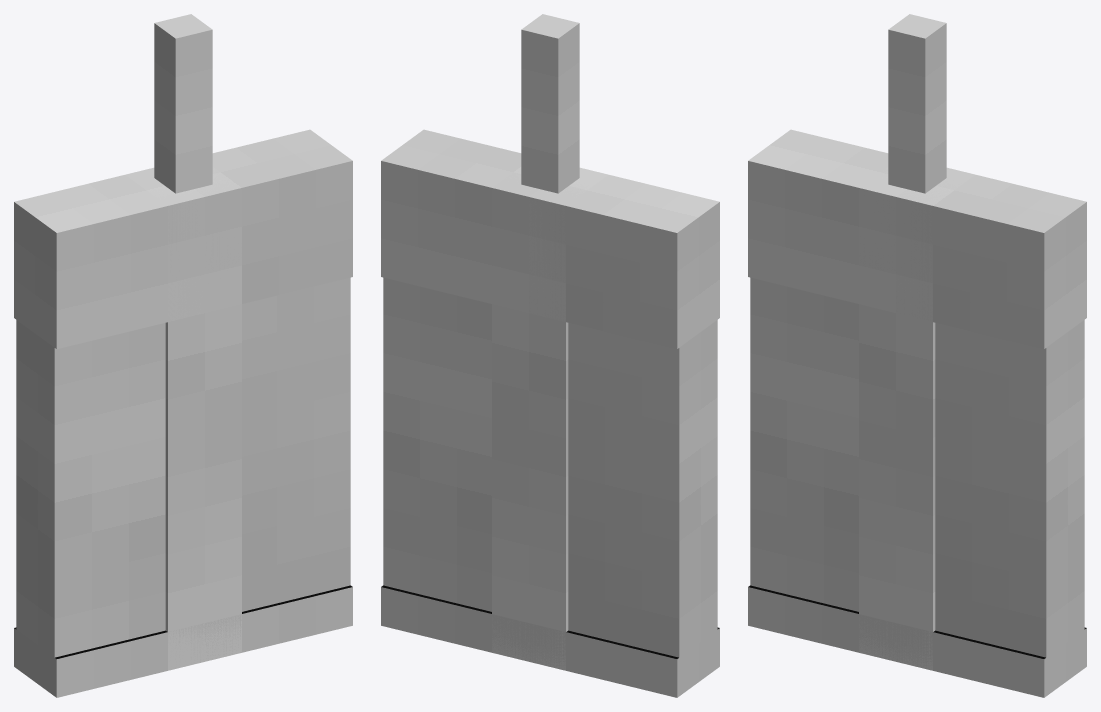
The model's file is mtr_sign.obj.
3 views of the same model, side by side, from view 1: azimuth 30°, elevation 25°; view 2: azimuth 150°, elevation 25°; view 3: azimuth 330°, elevation 25° (orthographic).
Visible parts, largest first — view 1: main, sideb, sidea, pole; view 2: main, sideb, sidea, pole; view 3: main, sidea, sideb, pole.
Part boxes in pixels (x1,y1,x2,y2): main: (14, 129, 352, 697); sideb: (125, 167, 204, 670); sidea: (196, 167, 241, 661); pole: (154, 14, 212, 193); main: (381, 129, 719, 697); sideb: (529, 167, 608, 670); sidea: (492, 167, 534, 661); pole: (521, 14, 579, 193); main: (748, 129, 1086, 697); sidea: (896, 167, 975, 670); sideb: (859, 167, 905, 661); pole: (888, 14, 946, 193).
Size of the model in its own units: 0.5 by 1 by 0.125.
2 materials, 2 textured.
